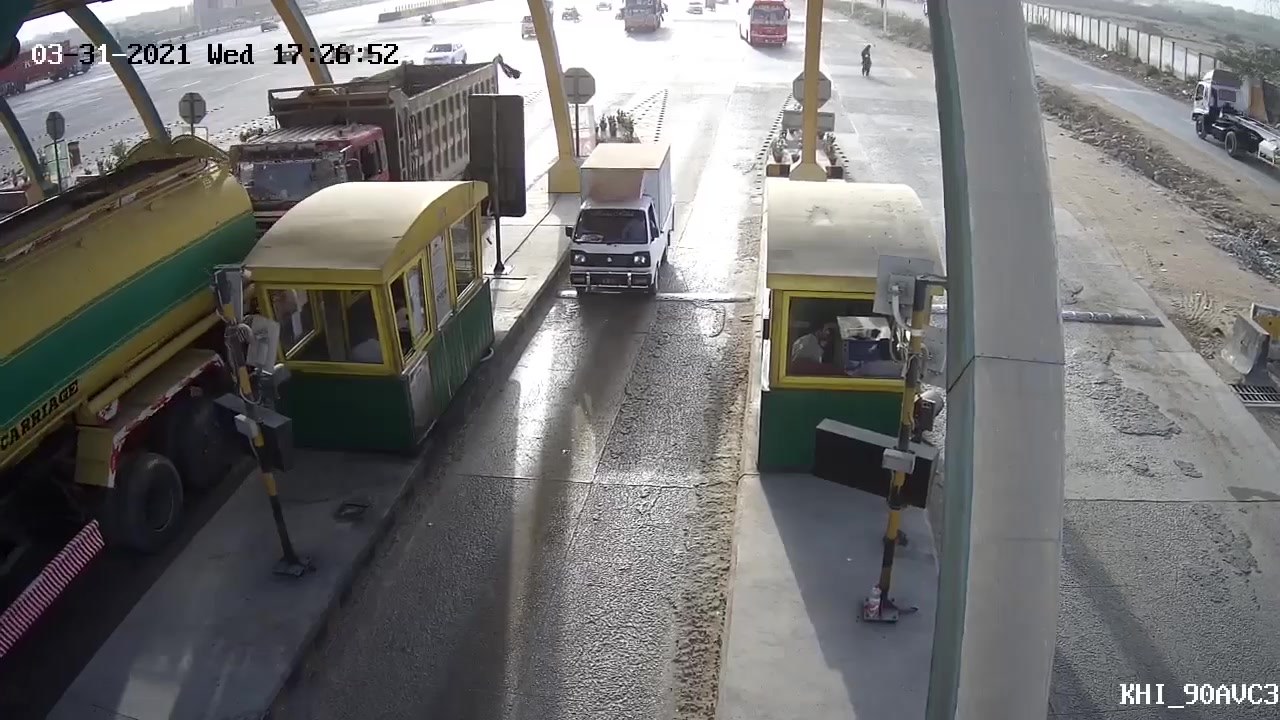F1: (551, 140, 686, 312)
